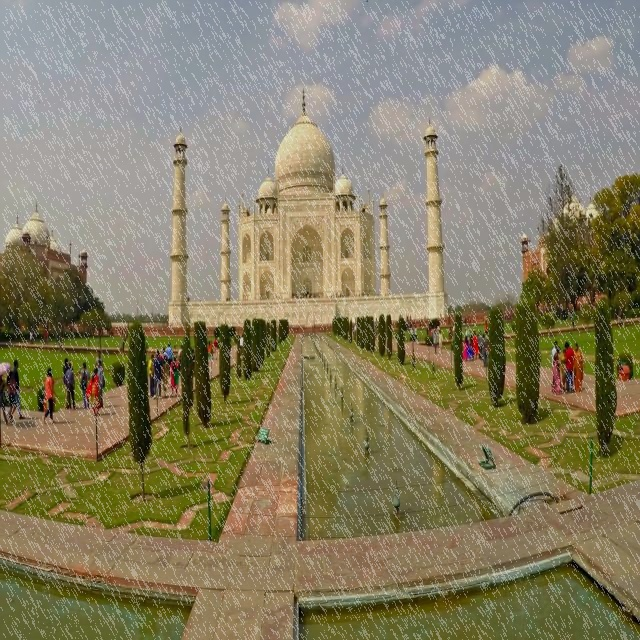pessoa: (41, 366, 59, 426), (12, 358, 25, 422), (400, 316, 483, 326), (290, 290, 390, 298), (150, 348, 164, 400), (5, 369, 18, 424), (64, 362, 78, 412), (77, 362, 91, 411), (564, 340, 576, 394), (62, 356, 74, 409), (572, 342, 584, 394), (158, 352, 170, 400), (0, 372, 10, 428), (87, 324, 126, 338), (168, 354, 180, 399), (550, 346, 562, 390), (91, 367, 101, 418), (96, 358, 105, 408), (147, 352, 156, 398), (550, 339, 558, 388), (560, 348, 568, 394), (164, 342, 174, 378), (480, 332, 489, 370), (154, 348, 162, 388), (550, 308, 576, 320), (470, 330, 480, 360), (94, 348, 105, 372), (476, 330, 484, 360), (465, 333, 473, 362), (188, 347, 197, 372), (177, 344, 184, 374), (483, 329, 490, 358), (462, 334, 469, 362), (213, 336, 220, 362), (437, 328, 444, 354), (432, 328, 438, 356), (206, 338, 212, 362), (56, 328, 64, 346), (237, 332, 246, 348), (612, 310, 622, 324), (475, 332, 480, 357), (412, 324, 418, 342), (570, 312, 576, 330), (352, 322, 358, 338), (409, 323, 414, 342), (161, 348, 167, 363), (372, 326, 378, 341), (28, 328, 34, 342), (426, 326, 432, 340), (484, 320, 489, 336), (463, 310, 476, 316), (45, 328, 49, 347), (43, 328, 47, 346), (472, 320, 476, 338), (447, 326, 452, 340), (464, 322, 468, 338), (506, 314, 514, 322), (310, 320, 315, 332), (447, 310, 457, 316), (436, 324, 439, 341), (467, 324, 471, 336), (224, 296, 231, 302), (450, 328, 454, 338), (186, 296, 190, 304), (483, 314, 487, 322), (210, 340, 212, 352), (426, 326, 428, 336), (432, 324, 436, 328), (200, 298, 202, 302)
